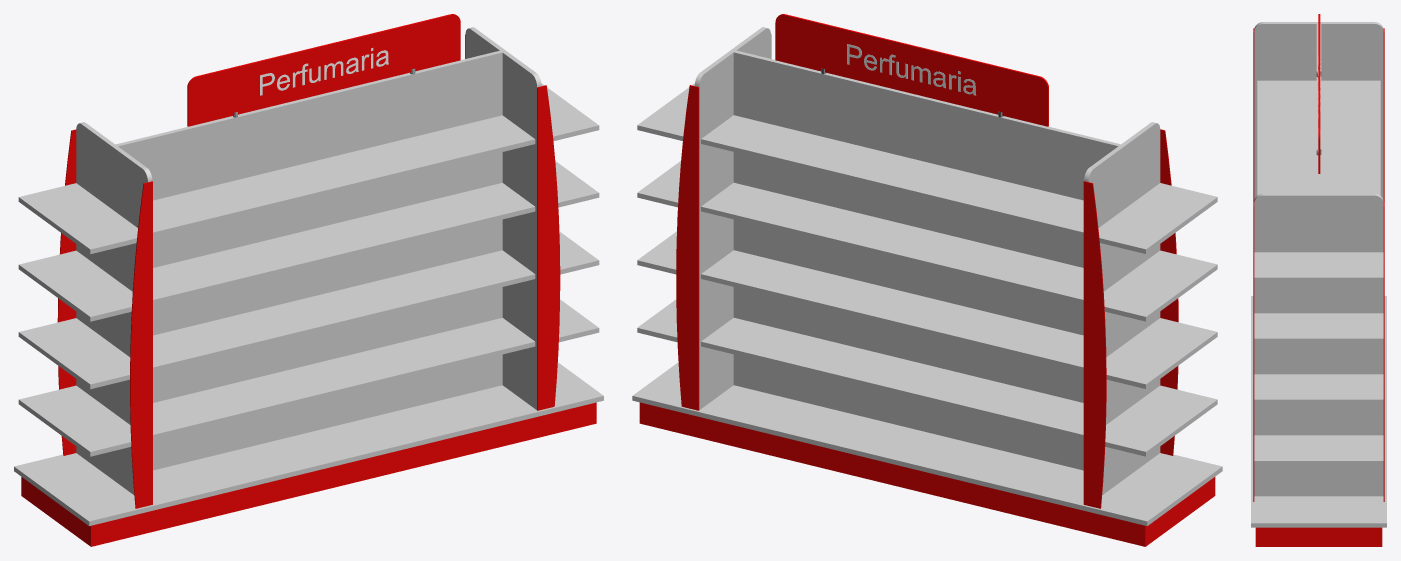
File: Gôndola 1,70.glb
3 renders of one model, left to right at view 1: azimuth 30°, elevation 25°; view 2: azimuth 150°, elevation 25°; view 3: azimuth 270°, elevation 25°, orthographic. The views are drawn at different scales.
Parts seen in each view (by area): view 1: Geom3D_ (×19), Geom3D (×6), Geom3D_Perfumaria; view 2: Geom3D_ (×19), Geom3D (×6), Geom3D_Perfumaria; view 3: Geom3D_ (×12), Geom3D (×5).
Part boxes in pixels (x1,y1,x2,y2): Geom3D_ (×19): [14, 14, 603, 526]; Geom3D (×6): [21, 85, 596, 546]; Geom3D_Perfumaria: [260, 48, 388, 95]; Geom3D_ (×19): [632, 14, 1222, 526]; Geom3D (×6): [639, 85, 1215, 546]; Geom3D_Perfumaria: [847, 44, 975, 95]; Geom3D_ (×12): [1251, 14, 1386, 527]; Geom3D (×5): [1253, 28, 1384, 546].
Bounding box in the file's own units: 1.7 × 1.3 × 0.43.
4 materials, 1 textured.
